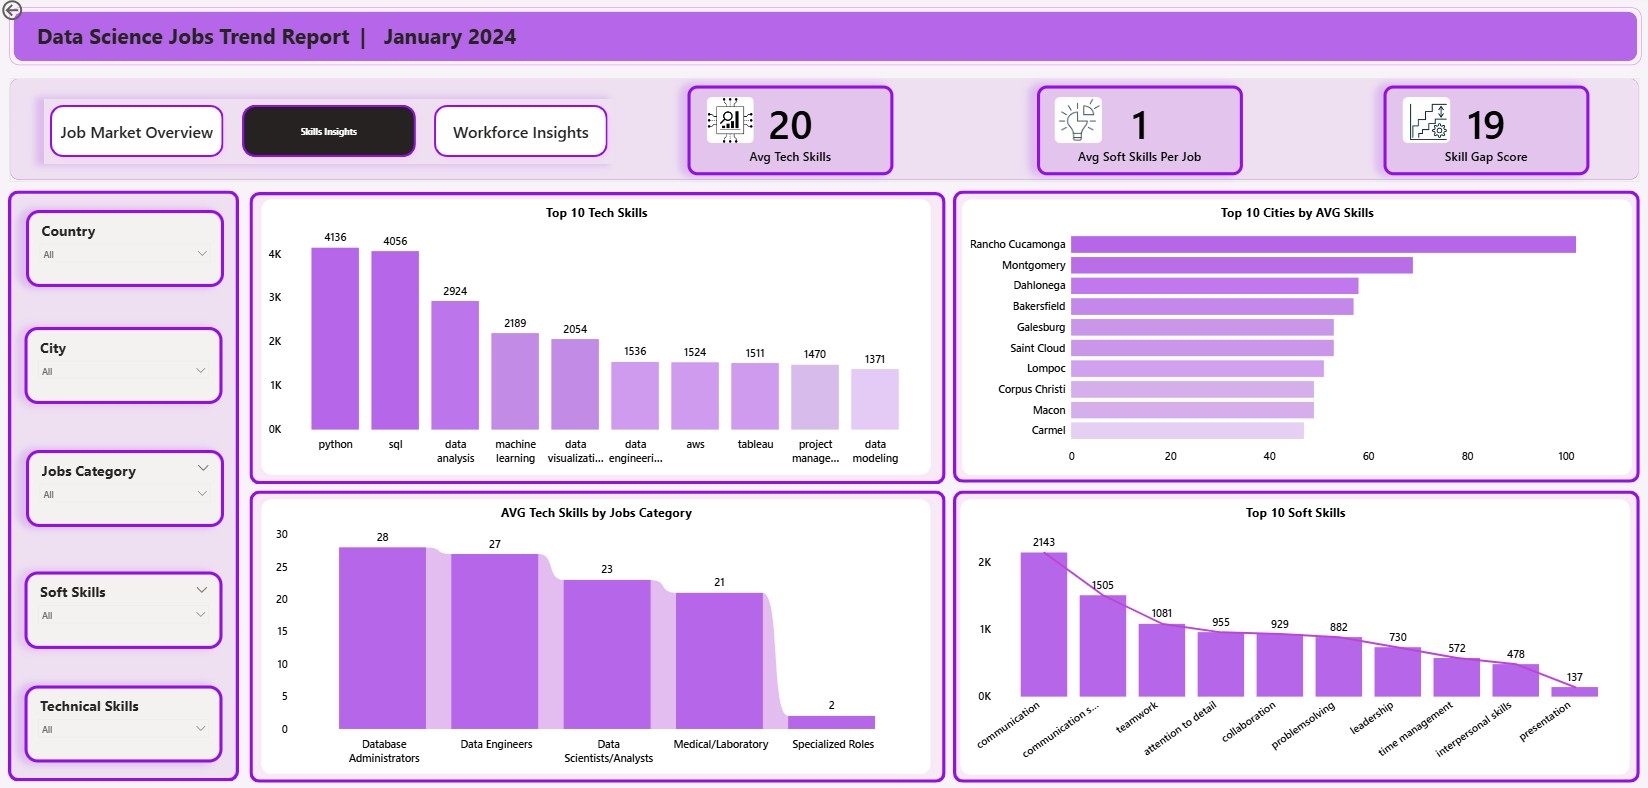

This screenshot's page, from the dashboard's own definition file:
{"tool":"powerbi","page":{"name":"Skills Insights","canvas":[2500,1200],"ordinal":1},"visuals":[{"type":"shape","box":[15,15,2472.5,87.5],"z":0},{"type":"textbox","box":[40,31.7,506.7,55],"z":1000},{"type":"shape","box":[16.7,123.8,2469,154.8],"z":2000},{"type":"shape","box":[14.3,292.9,350,895.2],"z":3000},{"type":"actionButton","box":[0,0,100,40],"z":4000},{"type":"card","fields":{"Values":["Table.Avg Tech Skills"]},"box":[1042.9,133.3,311.9,135.7],"z":5000},{"type":"shape","box":[378.6,295.2,1054.8,442.9],"z":6000},{"type":"slicer","fields":{"Values":["public vw_jobs_by_country.Country"]},"box":[40,321.7,300,116.7],"z":7000},{"type":"slicer","fields":{"Values":["public vw_jobs_by_city.City"]},"box":[38.3,500,300,116.7],"z":8000},{"type":"slicer","fields":{"Values":["mv_top_10_tech_skills.Technical Skills"]},"box":[38.3,1043.3,300,116.7],"z":9000},{"type":"slicer","fields":{"Values":["mv_top_10_soft_skills.Soft Skills"]},"box":[37.5,870,300,117.5],"z":10000},{"type":"slicer","fields":{"Values":["public vw_jobs_by_category.Jobs Category"]},"box":[40,686.7,300,116.7],"z":11000},{"type":"pageNavigator","box":[68.2,154.5,863.6,97.7],"z":12000},{"type":"shape","box":[378.6,747.6,1054.8,442.9],"z":13000},{"type":"shape","box":[1445.2,292.9,1040.5,442.9],"z":14000},{"type":"shape","box":[1445.2,747.6,1040.5,442.9],"z":15000},{"type":"columnChart","title":"Top 10 Tech Skills ","fields":{"Category":["mv_top_10_tech_skills.Technical Skills"],"Y":["Sum(mv_top_10_tech_skills.Skills Count)"]},"box":[397.6,307.1,1014.3,416.7],"z":16000},{"type":"lineClusteredColumnComboChart","title":"Top 10 Soft Skills","fields":{"Category":["mv_top_10_soft_skills.Soft Skills"],"Y":["Sum(mv_top_10_soft_skills.Skills Count)"],"Y2":["Sum(mv_top_10_soft_skills.Skills Count)"]},"box":[1457.1,761.9,1014.3,416.7],"z":17000},{"type":"columnChart","title":"AVG Tech Skills by Jobs Category","fields":{"Category":["public vw_avg_tech_soft_by_category.Jobs Category"],"Y":["Sum(public vw_avg_tech_soft_by_category.AVG_Technical Skills)"]},"box":[397.7,761.4,1013.6,415.9],"z":18000},{"type":"clusteredBarChart","title":"Top 10 Cities by AVG Skills","fields":{"Category":["mv_top_10_cities_avg_skills.City"],"Y":["Sum(mv_top_10_cities_avg_skills.AVG_Total Skills)"]},"box":[1458.5,307.3,1014.6,417.1],"z":19000},{"type":"textbox","box":[522.5,32.5,285,55],"z":20000},{"type":"card","fields":{"Values":["Table.Avg Soft Skills"]},"box":[1573.8,133.3,311.9,135.7],"z":21000},{"type":"card","fields":{"Values":["Table.Skill Gap"]},"box":[2097.6,133.3,311.9,135.7],"z":22000},{"type":"image","box":[1065.9,145.5,84.1,81.8],"z":23000},{"type":"image","box":[2120.5,145.5,84.1,81.8],"z":24000},{"type":"image","box":[1593.2,145.5,84.1,81.8],"z":25000}]}

Visuals, with their boxes on the page's 2500x1200 design canvas (x1, y1, x2, y2). These are canvas units, not pixel positions in the 1648x788 screenshot, which may show the page scaled, cropped or inside an application window:
shape: {"left": 15, "top": 15, "right": 2488, "bottom": 102}
textbox: {"left": 40, "top": 32, "right": 547, "bottom": 87}
shape: {"left": 17, "top": 124, "right": 2486, "bottom": 279}
shape: {"left": 14, "top": 293, "right": 364, "bottom": 1188}
actionButton: {"left": 0, "top": 0, "right": 100, "bottom": 40}
card - Table.Avg Tech Skills: {"left": 1043, "top": 133, "right": 1355, "bottom": 269}
shape: {"left": 379, "top": 295, "right": 1433, "bottom": 738}
slicer - public vw_jobs_by_country.Country: {"left": 40, "top": 322, "right": 340, "bottom": 438}
slicer - public vw_jobs_by_city.City: {"left": 38, "top": 500, "right": 338, "bottom": 617}
slicer - mv_top_10_tech_skills.Technical Skills: {"left": 38, "top": 1043, "right": 338, "bottom": 1160}
slicer - mv_top_10_soft_skills.Soft Skills: {"left": 38, "top": 870, "right": 338, "bottom": 988}
slicer - public vw_jobs_by_category.Jobs Category: {"left": 40, "top": 687, "right": 340, "bottom": 803}
pageNavigator: {"left": 68, "top": 154, "right": 932, "bottom": 252}
shape: {"left": 379, "top": 748, "right": 1433, "bottom": 1190}
shape: {"left": 1445, "top": 293, "right": 2486, "bottom": 736}
shape: {"left": 1445, "top": 748, "right": 2486, "bottom": 1190}
"Top 10 Tech Skills " columnChart: {"left": 398, "top": 307, "right": 1412, "bottom": 724}
"Top 10 Soft Skills" lineClusteredColumnComboChart: {"left": 1457, "top": 762, "right": 2471, "bottom": 1179}
"AVG Tech Skills by Jobs Category" columnChart: {"left": 398, "top": 761, "right": 1411, "bottom": 1177}
"Top 10 Cities by AVG Skills" clusteredBarChart: {"left": 1458, "top": 307, "right": 2473, "bottom": 724}
textbox: {"left": 522, "top": 32, "right": 808, "bottom": 88}
card - Table.Avg Soft Skills: {"left": 1574, "top": 133, "right": 1886, "bottom": 269}
card - Table.Skill Gap: {"left": 2098, "top": 133, "right": 2410, "bottom": 269}
image: {"left": 1066, "top": 146, "right": 1150, "bottom": 227}
image: {"left": 2120, "top": 146, "right": 2205, "bottom": 227}
image: {"left": 1593, "top": 146, "right": 1677, "bottom": 227}
